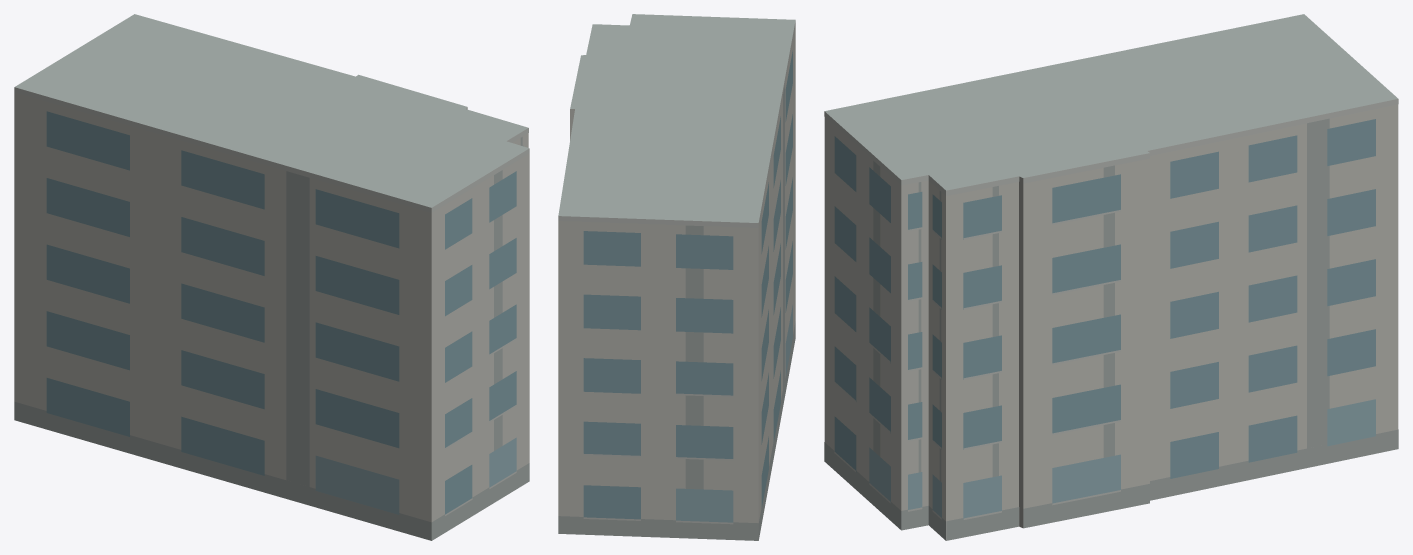
File: survey-upis-32600447.glb
The picture shows the model from 3 angles, left to right: view 1: azimuth 30°, elevation 25°; view 2: azimuth 150°, elevation 25°; view 3: azimuth 270°, elevation 25°; orthographic projection. The views are drawn at different scales.
Parts seen in each view (by area): view 1: survey-upis-32600447.tmp; view 2: survey-upis-32600447.tmp; view 3: survey-upis-32600447.tmp.
Part boxes in pixels (bbox=[...]): survey-upis-32600447.tmp: bbox=[14, 14, 529, 540]; survey-upis-32600447.tmp: bbox=[558, 14, 795, 540]; survey-upis-32600447.tmp: bbox=[824, 14, 1398, 540].
Bounding box in the file's own units: 16.88 × 15.6 × 23.18.
